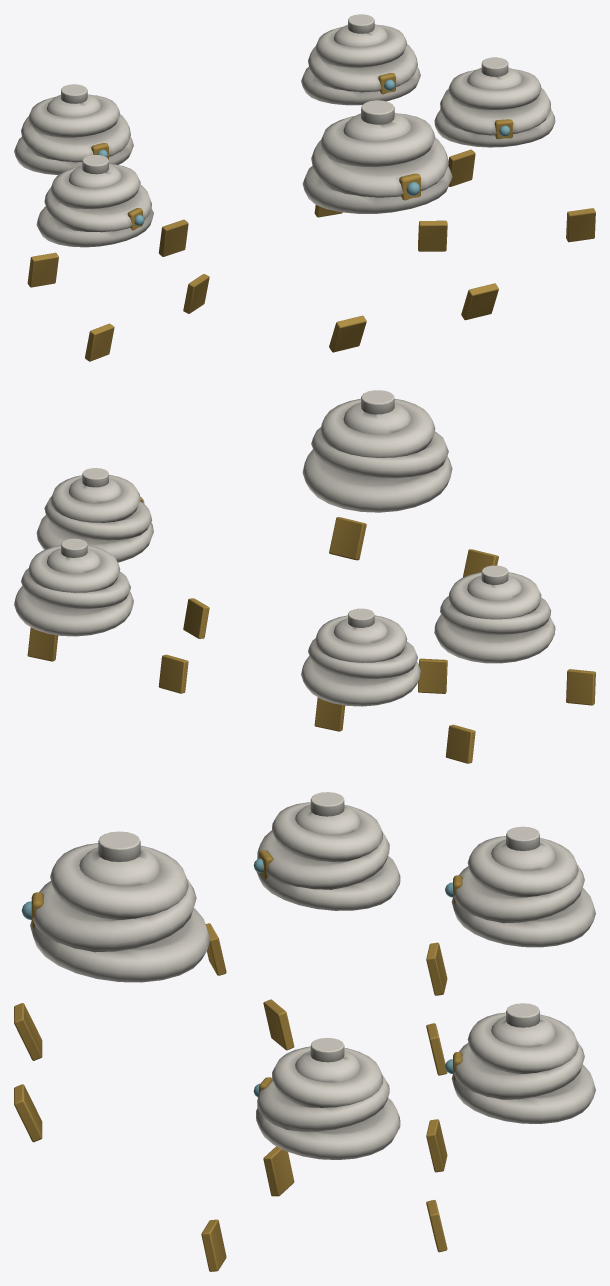
Rendered from lather-linen-lod0.glb.
3 views of the same model, one above another, from view 1: azimuth 30°, elevation 25°; view 2: azimuth 150°, elevation 25°; view 3: azimuth 270°, elevation 25° (orthographic). The views are drawn at different scales.
Visible parts, largest first — view 1: cap_hat, att2_hat, att3_hat, att0_hat, att1_hat, cap_arm_l_trim, cap_arm_r_trim, att2_arm_r_trim, att2_arm_l_trim, att1_arm_r_trim, att1_arm_l_trim, att3_arm_r_trim (+2 smaller); view 2: cap_hat, att3_hat, att0_hat, att1_hat, att2_hat, cap_arm_l_trim, att3_arm_r_trim, att3_arm_l_trim, att0_arm_r_trim, att1_arm_r_trim, att0_arm_l_trim, att1_arm_l_trim (+2 smaller); view 3: cap_hat, att2_hat, att1_hat, att0_hat, att3_hat, att2_arm_r_trim, cap_arm_l_trim, cap_arm_r_trim, att3_arm_l_trim, att2_arm_l_trim, att0_arm_r_trim, att1_arm_r_trim.
Part boxes in pixels (bbox=[...]): cap_hat: bbox=[302, 100, 452, 213]; att2_hat: bbox=[434, 57, 555, 147]; att3_hat: bbox=[36, 155, 153, 247]; att0_hat: bbox=[301, 14, 420, 105]; att1_hat: bbox=[14, 84, 133, 174]; cap_arm_l_trim: bbox=[461, 283, 498, 320]; cap_arm_r_trim: bbox=[329, 315, 366, 352]; att2_arm_r_trim: bbox=[418, 220, 447, 251]; att2_arm_l_trim: bbox=[566, 208, 595, 242]; att1_arm_r_trim: bbox=[27, 252, 58, 287]; att1_arm_l_trim: bbox=[158, 219, 188, 256]; att3_arm_r_trim: bbox=[85, 323, 114, 361]; cap_hat: bbox=[302, 390, 452, 512]; att3_hat: bbox=[434, 565, 555, 663]; att0_hat: bbox=[14, 538, 133, 636]; att1_hat: bbox=[301, 608, 420, 706]; att2_hat: bbox=[36, 468, 153, 562]; cap_arm_l_trim: bbox=[329, 517, 366, 560]; att3_arm_r_trim: bbox=[566, 669, 595, 705]; att3_arm_l_trim: bbox=[418, 658, 447, 693]; att0_arm_r_trim: bbox=[158, 654, 188, 693]; att1_arm_r_trim: bbox=[445, 724, 475, 763]; att0_arm_l_trim: bbox=[27, 627, 58, 661]; att1_arm_l_trim: bbox=[314, 697, 345, 731]; cap_hat: bbox=[21, 831, 210, 982]; att2_hat: bbox=[253, 1038, 400, 1159]; att1_hat: bbox=[445, 826, 595, 947]; att0_hat: bbox=[445, 1003, 595, 1123]; att3_hat: bbox=[253, 792, 400, 910]; att2_arm_r_trim: bbox=[263, 1146, 294, 1196]; cap_arm_l_trim: bbox=[14, 1084, 42, 1142]; cap_arm_r_trim: bbox=[14, 1003, 42, 1060]; att3_arm_l_trim: bbox=[263, 999, 294, 1050]; att2_arm_l_trim: bbox=[201, 1219, 226, 1271]; att0_arm_r_trim: bbox=[426, 1119, 447, 1172]; att1_arm_r_trim: bbox=[426, 942, 447, 995].
Size of the model in its own units: 2.2 by 0.9092 by 1.73.
